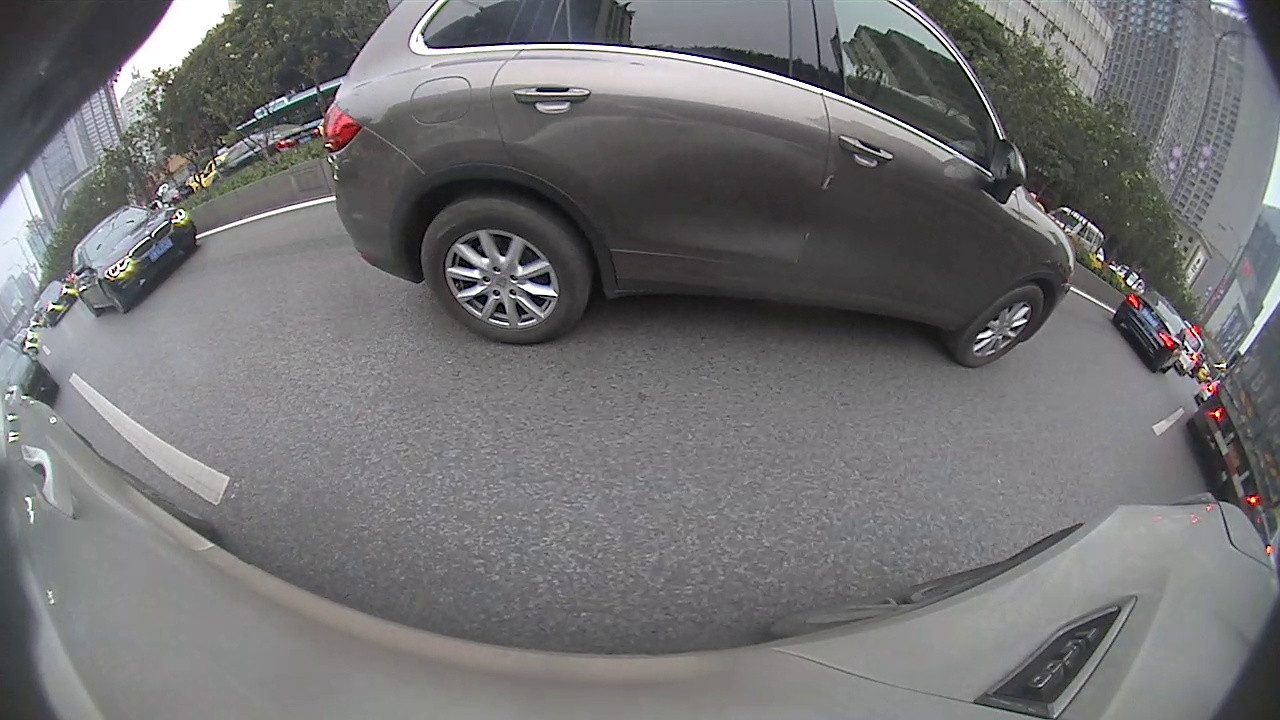car: (843, 128, 1279, 502), (306, 150, 517, 263), (527, 159, 584, 195), (617, 151, 659, 191)
front: (851, 213, 923, 309), (501, 186, 517, 215)
person: (723, 148, 732, 185)
rear: (423, 202, 453, 246)
rider: (701, 160, 719, 186)
